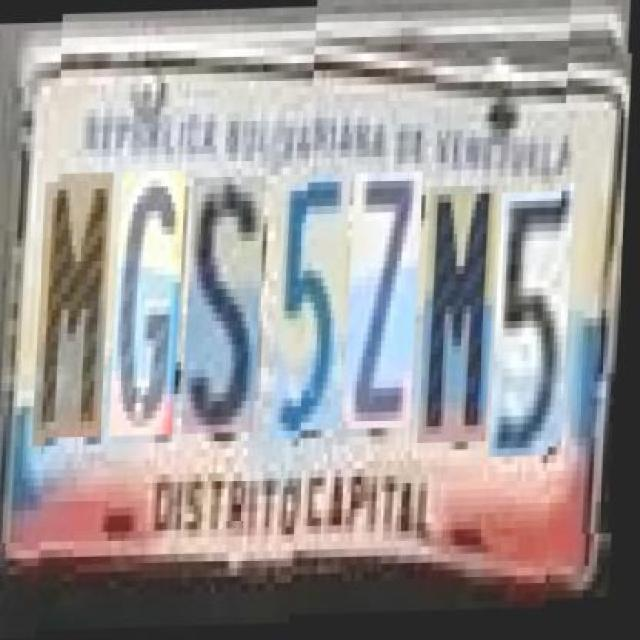5: (494, 194, 577, 460), (276, 175, 352, 434)
g: (114, 164, 188, 428)
m: (37, 164, 117, 430), (422, 188, 500, 446)
s: (186, 169, 268, 428)
z: (347, 173, 425, 432)
